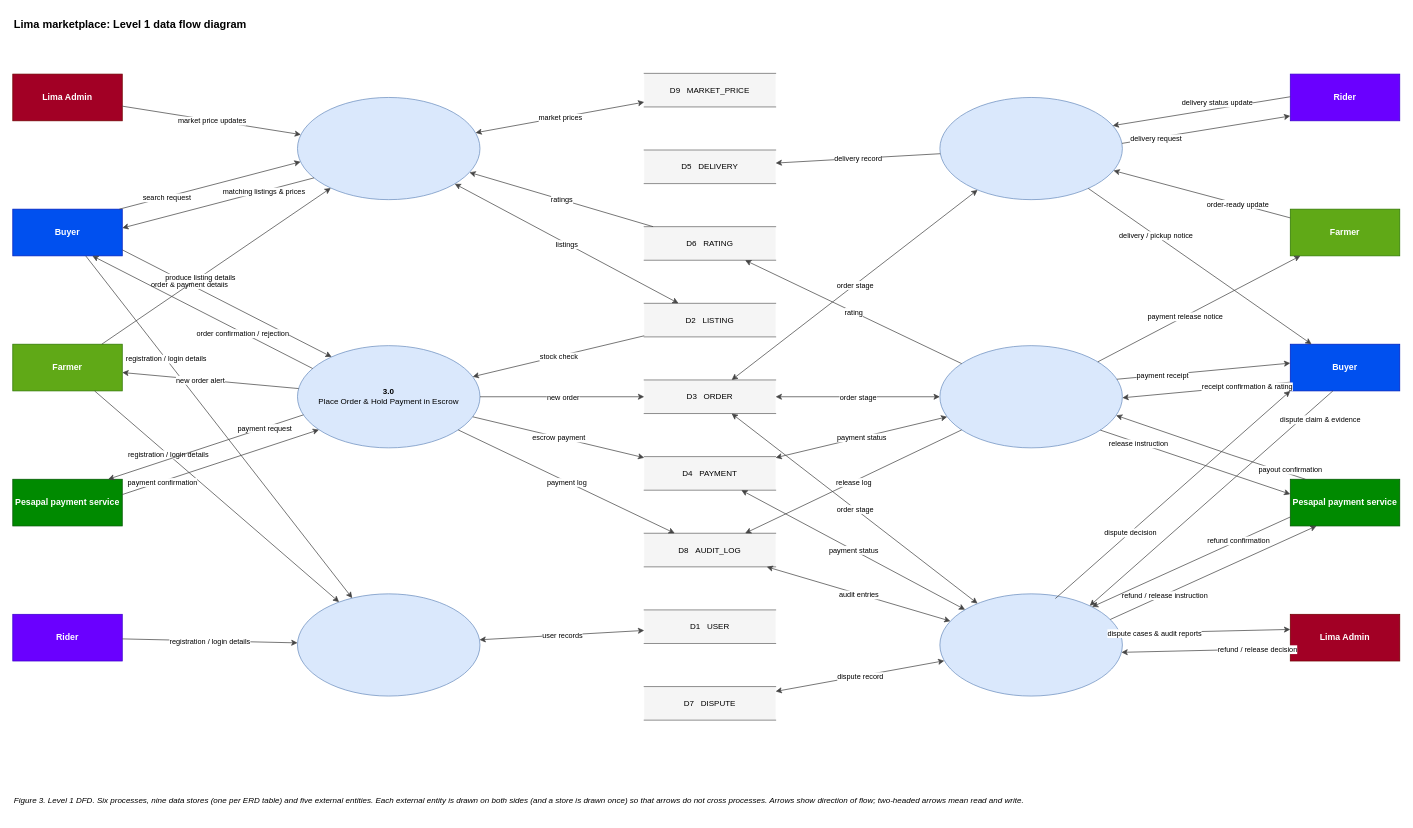
Image size: 1413x828. Some labels were removed from this diagram. The centre of each missing label's shape, as x and y in pixels:
"1.0 Register & Log In" goes at [388,644].
"2.0 Manage Listings, Prices & Search" goes at [388,148].
"4.0 Prepare & Deliver Order" goes at [1030,148].
"5.0 Confirm Receipt, Rate & Release Payment" goes at [1030,396].
"6.0 Resolve Disputes & No-Shows" goes at [1030,644].
